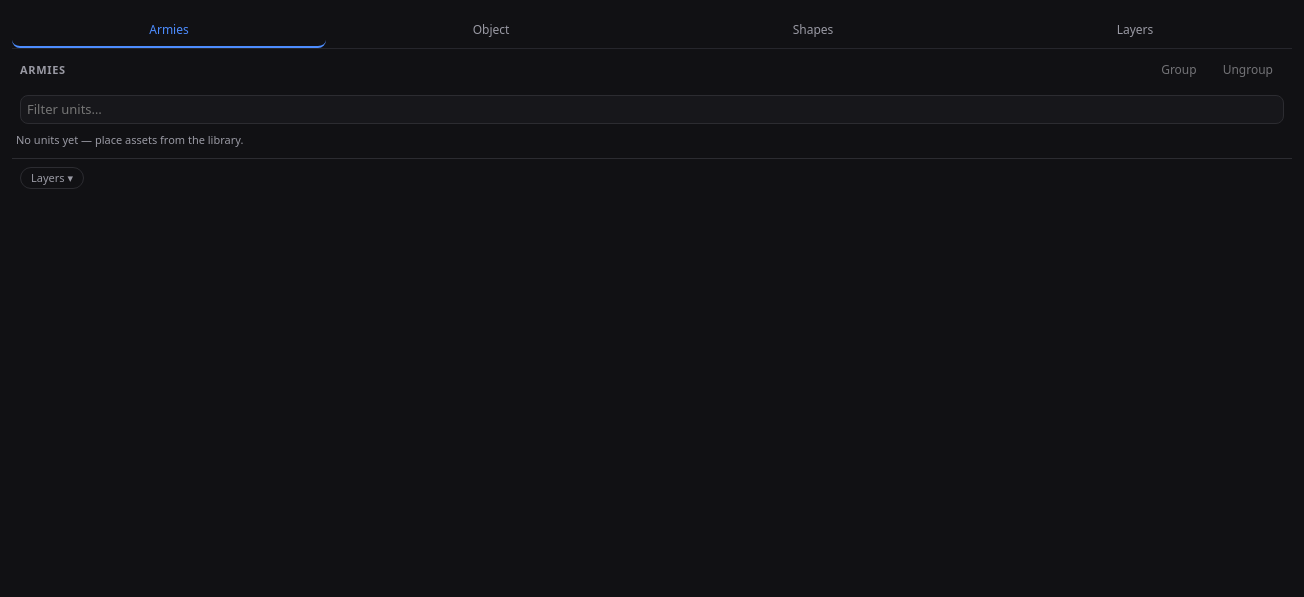
Test: RightPanel › switches to the Shapes tab (replaces the retired AI tab)
The image size is (1304, 597).
Click the tab with test id "tab-shapes".
click(813, 30)  # box [656,12,970,48]
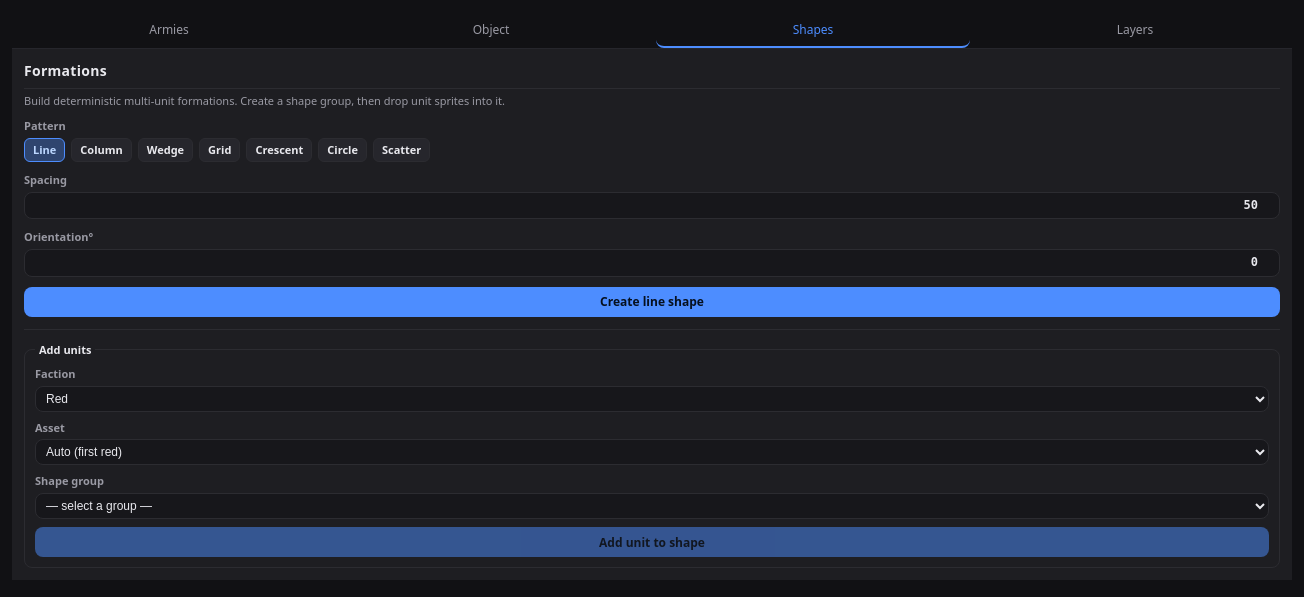
Check: the element with test id "shapes-panel" is shown
